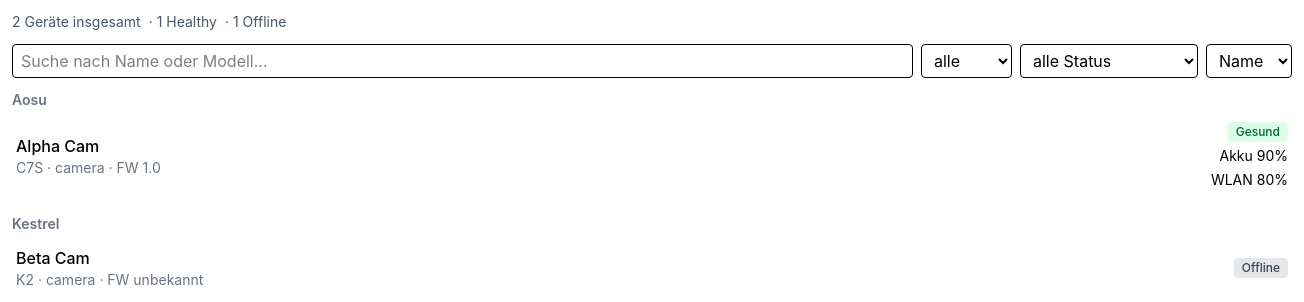
it: DeviceInventory › filters by health status
Select "Offline" in the dropdown named "Nach Status filtern" at (1109, 61), box x1=1020 y1=44 x2=1198 y2=78
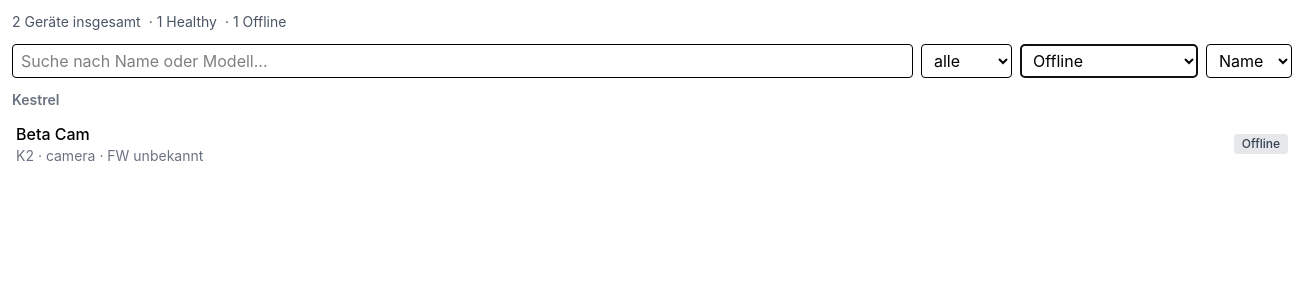
Expected: the text "Beta Cam" is shown, x1=16 y1=124 x2=90 y2=144
Result: the button "Alpha Cam" is gone
